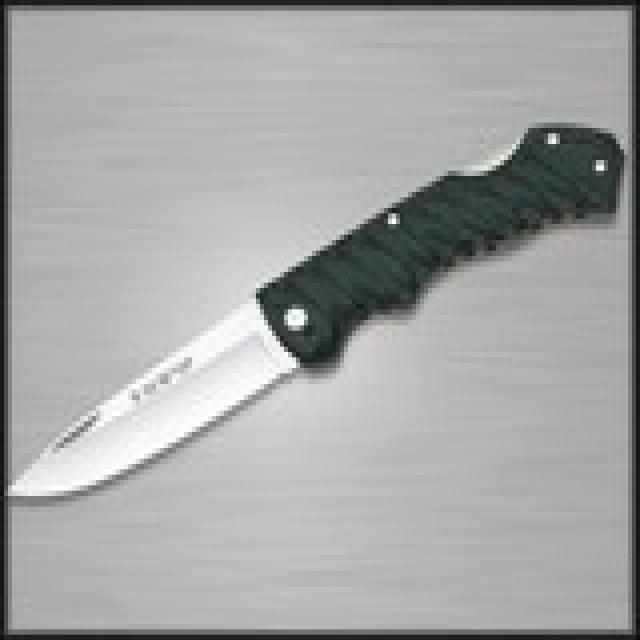Knife: (6, 110, 626, 544)
